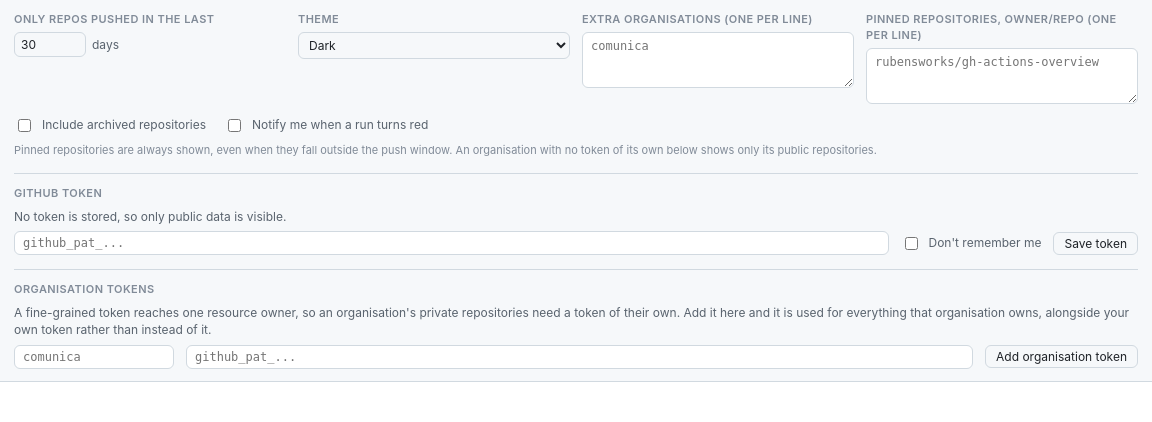
Test: SettingsPanel › the token › saves a pasted token, remembering it by default
Type "  github_pat_new  " into the password field named "Replace the personal access token". click: (451, 243)
box: x1=14 y1=231 x2=888 y2=255
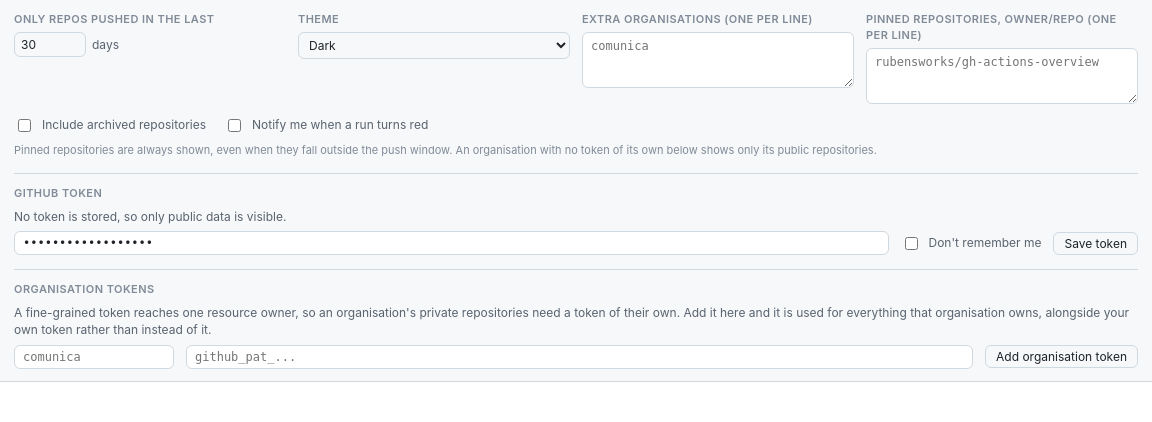
Click the button "Save token". click: click(1096, 243)
box: x1=1053 y1=232 x2=1138 y2=255
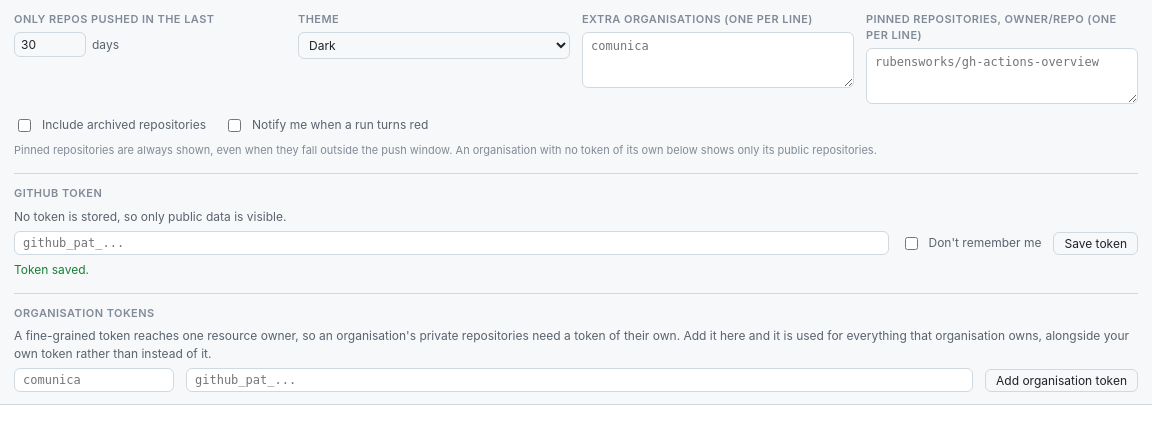
Expected: the text "Token saved." is shown, x1=14 y1=262 x2=89 y2=277
